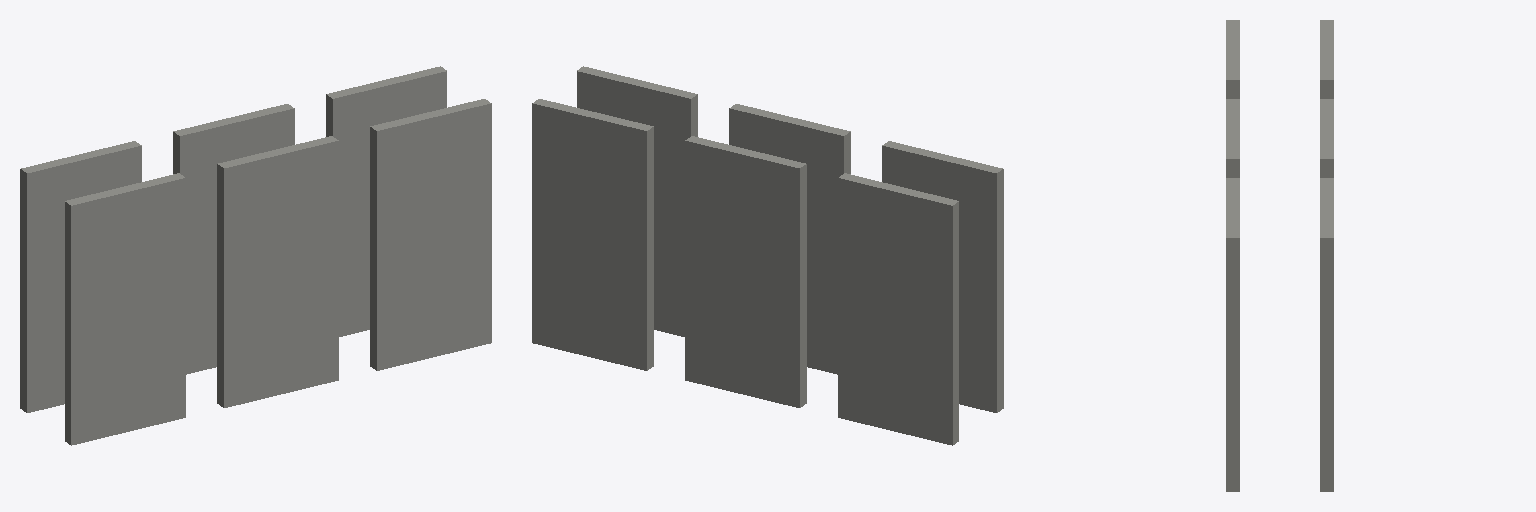
robot.urdf — gnss_canyon:
<?xml version="1.0"?>
<!-- GNSS を劣化させるためのビル街 (アーバンキャニオン)。

     gnss_sky_view はアンテナから衛星ごとにレイを打つので、衛星を遮るのは
     「普通のコライダ」だけ。雑草や磁気テープはトリガなので既定では影を作らない
     (<hit_triggers>true</hit_triggers> で拾わせることはできる)。ここはビルなので
     sensor_only は付けず、実体のある壁にしてある。

     街路は幅 4 m・壁高 12 m で、x=4 から x=26 まで。
     間に 2 m の横道が空いているので、そこを通るたびに空が開けて測位が一度回復する。

     街路軸 (+x) 方向の空は塞げないので、どれだけ深くしても衛星が全て消えることは
     ない。幅 8 m・高さ 10 m では使用衛星が 20 -> 11 に減る程度で RTK Fix は
     保たれた。等級まで落とすにはこの幅 4 m・高さ 12 m くらいが要る。逆に劣化を
     弱めたいときは街路を広げる。

     原点から +x へ走ると「開空 -> 谷間 -> 横道 -> 谷間」と条件が変わるので、
     /diffbot/gnss_antenna_link/extended_fix の status (RTK Fix 19 / Float 20) と
     使用衛星数・HDOP の変化が追える。GUI のエンティティパネルの
     `<link> gnss rays` を ON にすると、直達 (緑) と反射 (太いアンバー) の経路が
     描かれる。 -->
<robot name="gnss_canyon">
  <material name="concrete">
    <color rgba="0.62 0.62 0.6 1.0"/>
  </material>

  <link name="world"/>
  <link name="buildings_link">
    <visual><origin xyz="7.0 2.0 6.0" rpy="0 0 0"/><geometry><box size="6.0 0.6 12.0"/></geometry><material name="concrete"/></visual>
    <collision><origin xyz="7.0 2.0 6.0" rpy="0 0 0"/><geometry><box size="6.0 0.6 12.0"/></geometry></collision>
    <visual><origin xyz="7.0 -2.0 6.0" rpy="0 0 0"/><geometry><box size="6.0 0.6 12.0"/></geometry><material name="concrete"/></visual>
    <collision><origin xyz="7.0 -2.0 6.0" rpy="0 0 0"/><geometry><box size="6.0 0.6 12.0"/></geometry></collision>
    <visual><origin xyz="15.0 2.0 6.0" rpy="0 0 0"/><geometry><box size="6.0 0.6 12.0"/></geometry><material name="concrete"/></visual>
    <collision><origin xyz="15.0 2.0 6.0" rpy="0 0 0"/><geometry><box size="6.0 0.6 12.0"/></geometry></collision>
    <visual><origin xyz="15.0 -2.0 6.0" rpy="0 0 0"/><geometry><box size="6.0 0.6 12.0"/></geometry><material name="concrete"/></visual>
    <collision><origin xyz="15.0 -2.0 6.0" rpy="0 0 0"/><geometry><box size="6.0 0.6 12.0"/></geometry></collision>
    <visual><origin xyz="23.0 2.0 6.0" rpy="0 0 0"/><geometry><box size="6.0 0.6 12.0"/></geometry><material name="concrete"/></visual>
    <collision><origin xyz="23.0 2.0 6.0" rpy="0 0 0"/><geometry><box size="6.0 0.6 12.0"/></geometry></collision>
    <visual><origin xyz="23.0 -2.0 6.0" rpy="0 0 0"/><geometry><box size="6.0 0.6 12.0"/></geometry><material name="concrete"/></visual>
    <collision><origin xyz="23.0 -2.0 6.0" rpy="0 0 0"/><geometry><box size="6.0 0.6 12.0"/></geometry></collision>
  </link>
  <joint name="buildings_fix" type="fixed">
    <parent link="world"/>
    <child link="buildings_link"/>
  </joint>
</robot>

--- Render facts (derived) ---
The picture shows the robot from 3 angles, left to right: view 1: azimuth 30°, elevation 25°; view 2: azimuth 150°, elevation 25°; view 3: azimuth 270°, elevation 25°; orthographic projection.
Model gnss_canyon with 2 links and 1 joints (1 fixed), rooted at world, posed all joints at 0.
Links seen in each view (by area): view 1: buildings_link; view 2: buildings_link; view 3: buildings_link.
Boxes of the visible links, <box> form: buildings_link: <box>20,66,491,445</box>; buildings_link: <box>532,66,1003,445</box>; buildings_link: <box>1226,20,1333,491</box>.
Size in the robot's own frame: 22 by 4.6 by 12 metres.
Geometry: primitives only (box / cylinder / sphere), no mesh files.
